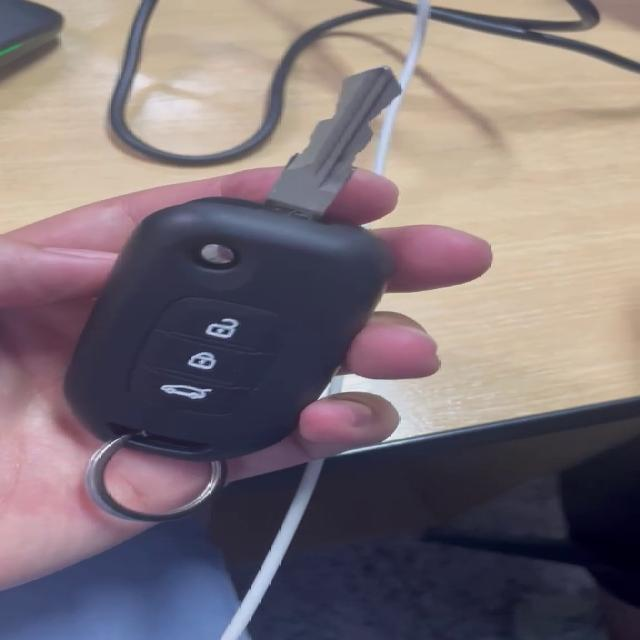llave-auto: (46, 8, 541, 585)
